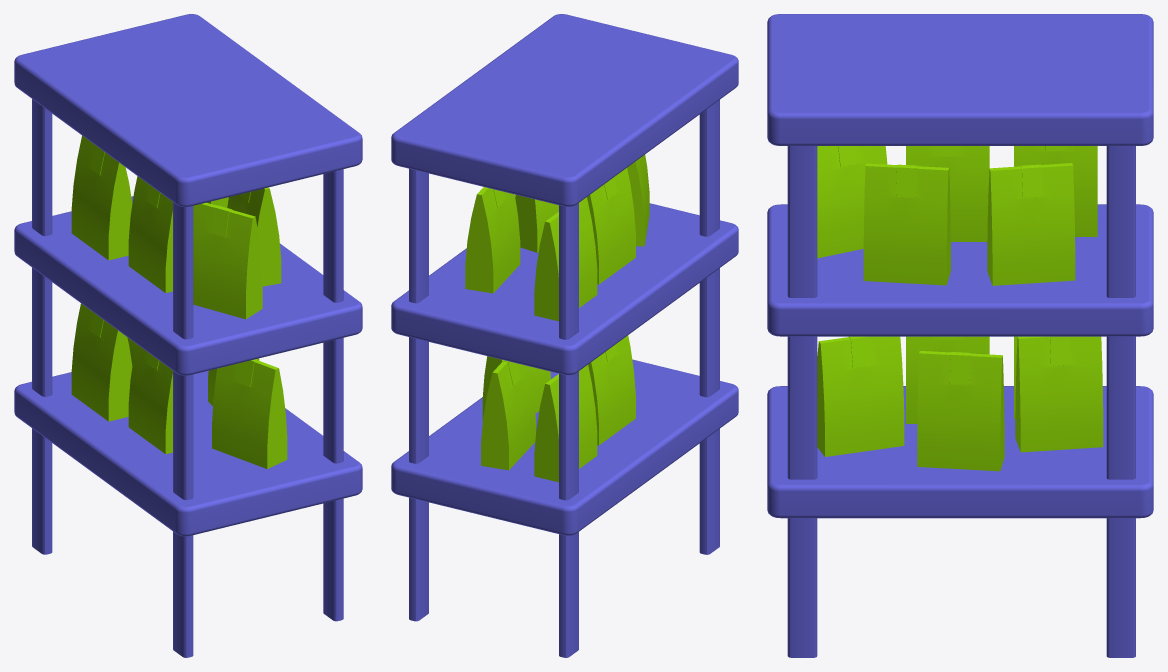
The model's file is CoffeeShelf.fbx.
3 renders of one model, left to right at view 1: azimuth 30°, elevation 25°; view 2: azimuth 150°, elevation 25°; view 3: azimuth 270°, elevation 25°, orthographic. The views are drawn at different scales.
Parts seen in each view (by area): view 1: CoffeeShelf; view 2: CoffeeShelf; view 3: CoffeeShelf.
Boxes of the visible parts, x1,y1,x2,y2 form: CoffeeShelf: (14, 14, 362, 657); CoffeeShelf: (391, 14, 738, 657); CoffeeShelf: (767, 14, 1153, 657).
Size of the model in its own units: 36.41 by 91.33 by 58.12.
